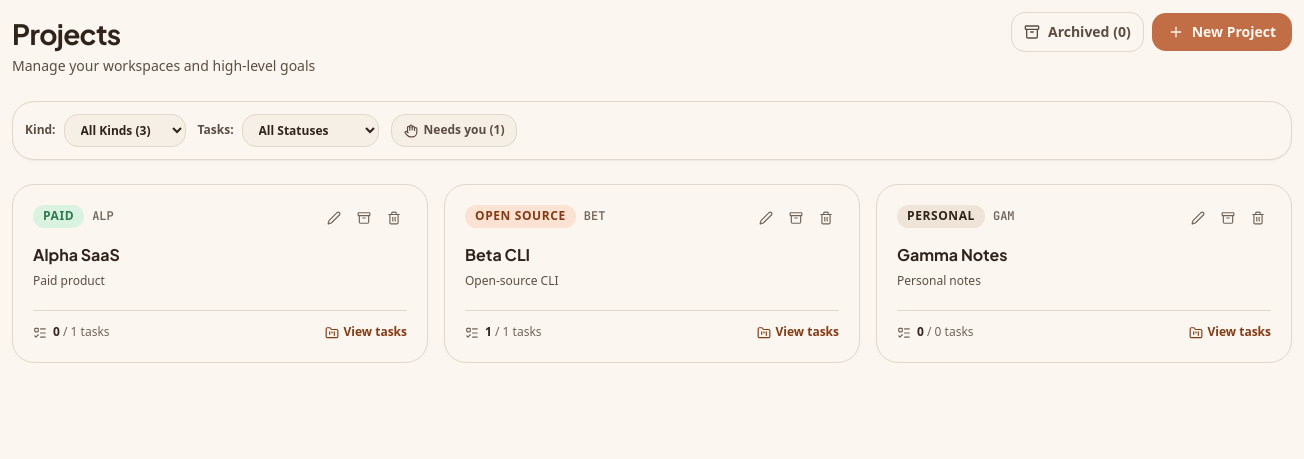
Test: ProjectsView filtering and detail modal › shows empty state with Clear filters when no project matches active filters
The image size is (1304, 459).
Select "Internal" in the dropdown labelled "Kind:" at (124, 131), box top-left (64, 114), bottom-right (186, 147)
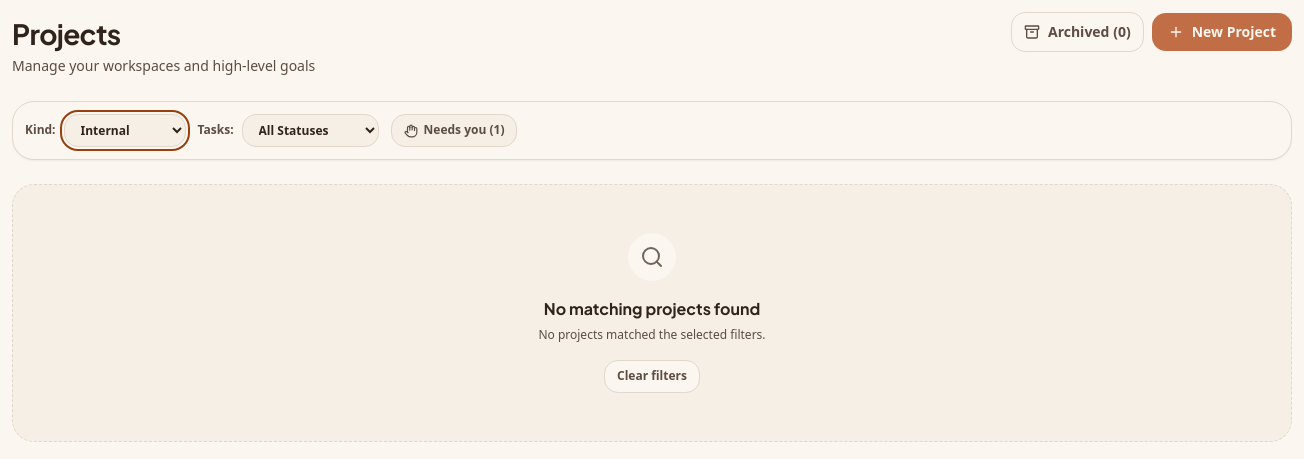
Expected: the heading "No matching projects found" is shown, top-left (544, 297), bottom-right (760, 322)
Click the button "Clear filters" at (652, 377), box top-left (604, 360), bottom-right (700, 393)
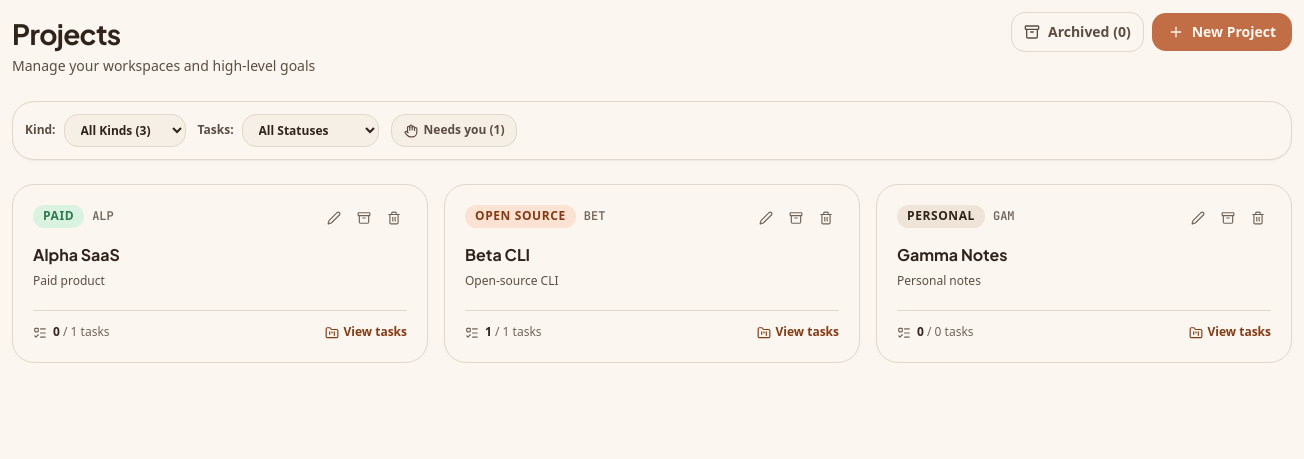
Expected: the button "Alpha SaaS" is shown, top-left (33, 243), bottom-right (120, 268)
